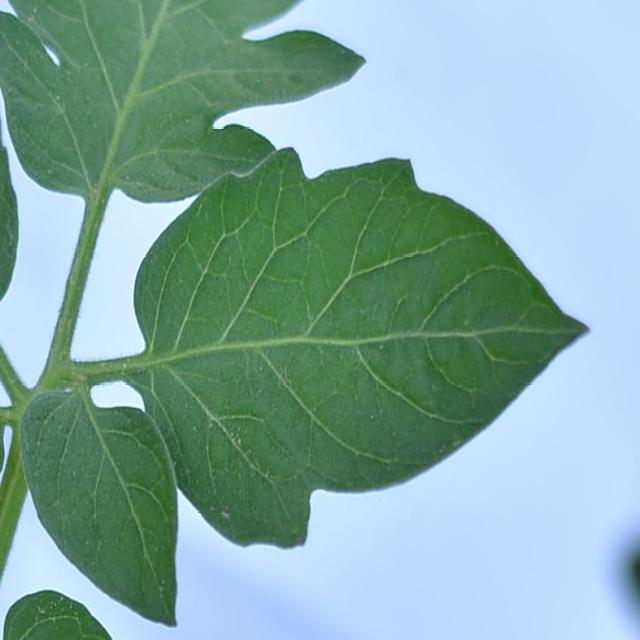healthy: (13, 144, 594, 625), (2, 2, 390, 204)
